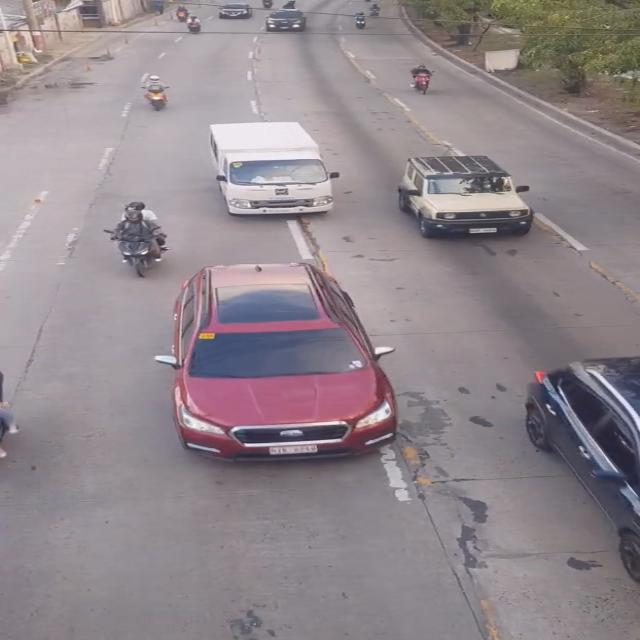car: (167, 257, 401, 457), (520, 356, 640, 593), (402, 149, 536, 238)
motorbike: (117, 199, 169, 280)
truck: (214, 115, 341, 220)
